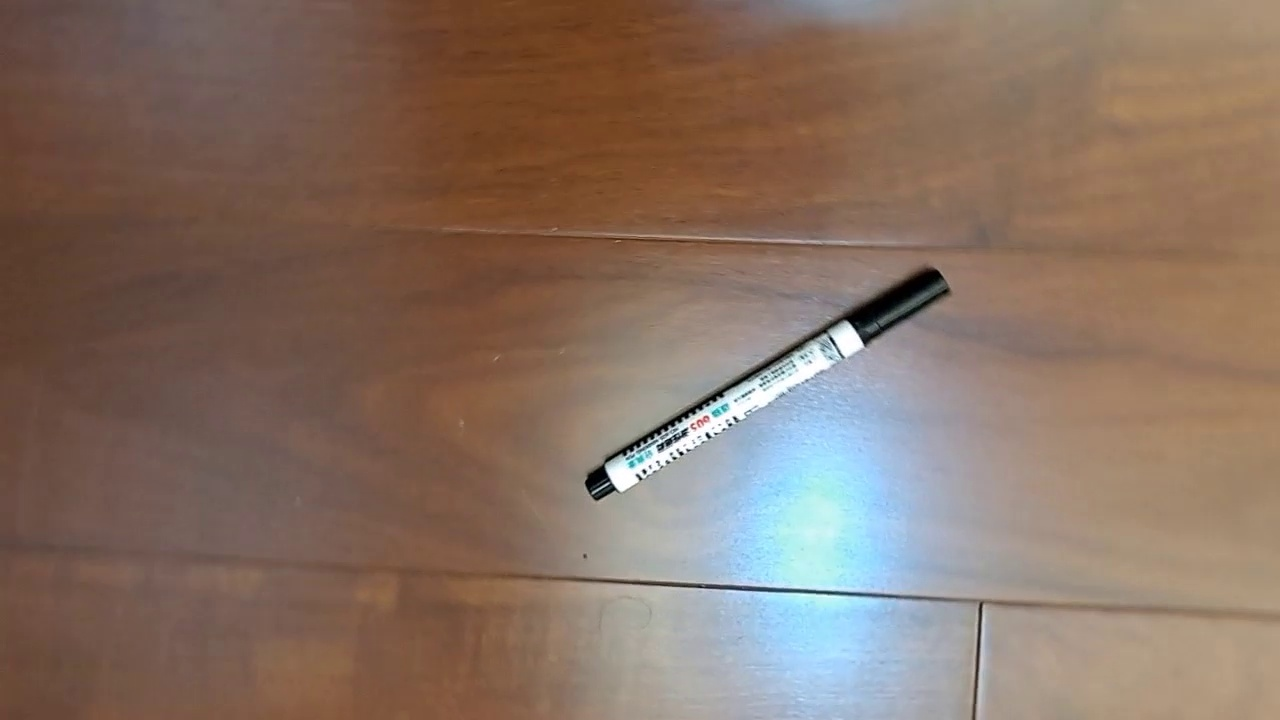pen: (583, 265, 954, 502)
